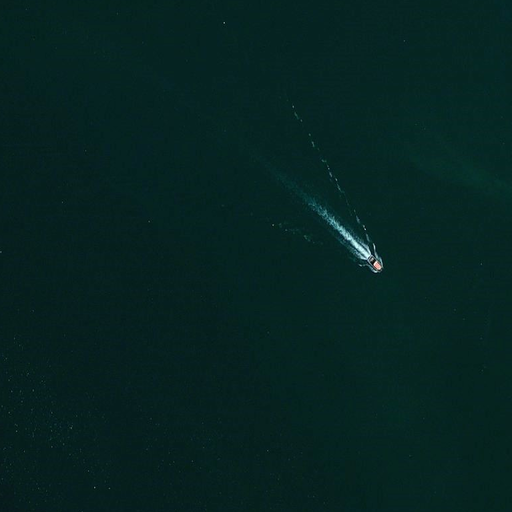ship: (365, 253, 384, 275)
